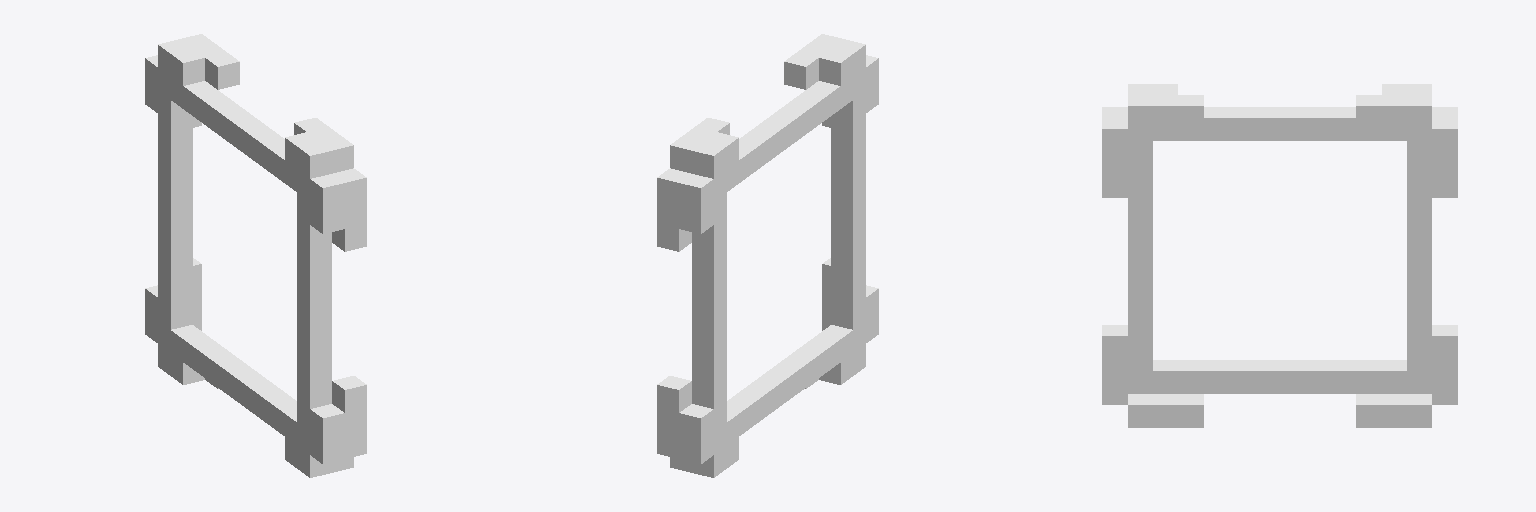
The model's file is glass_xm.obj.
3 renders of one model, left to right at view 1: azimuth 30°, elevation 25°; view 2: azimuth 150°, elevation 25°; view 3: azimuth 270°, elevation 25°, orthographic.
Size of the model in its own units: 2 by 14 by 14.